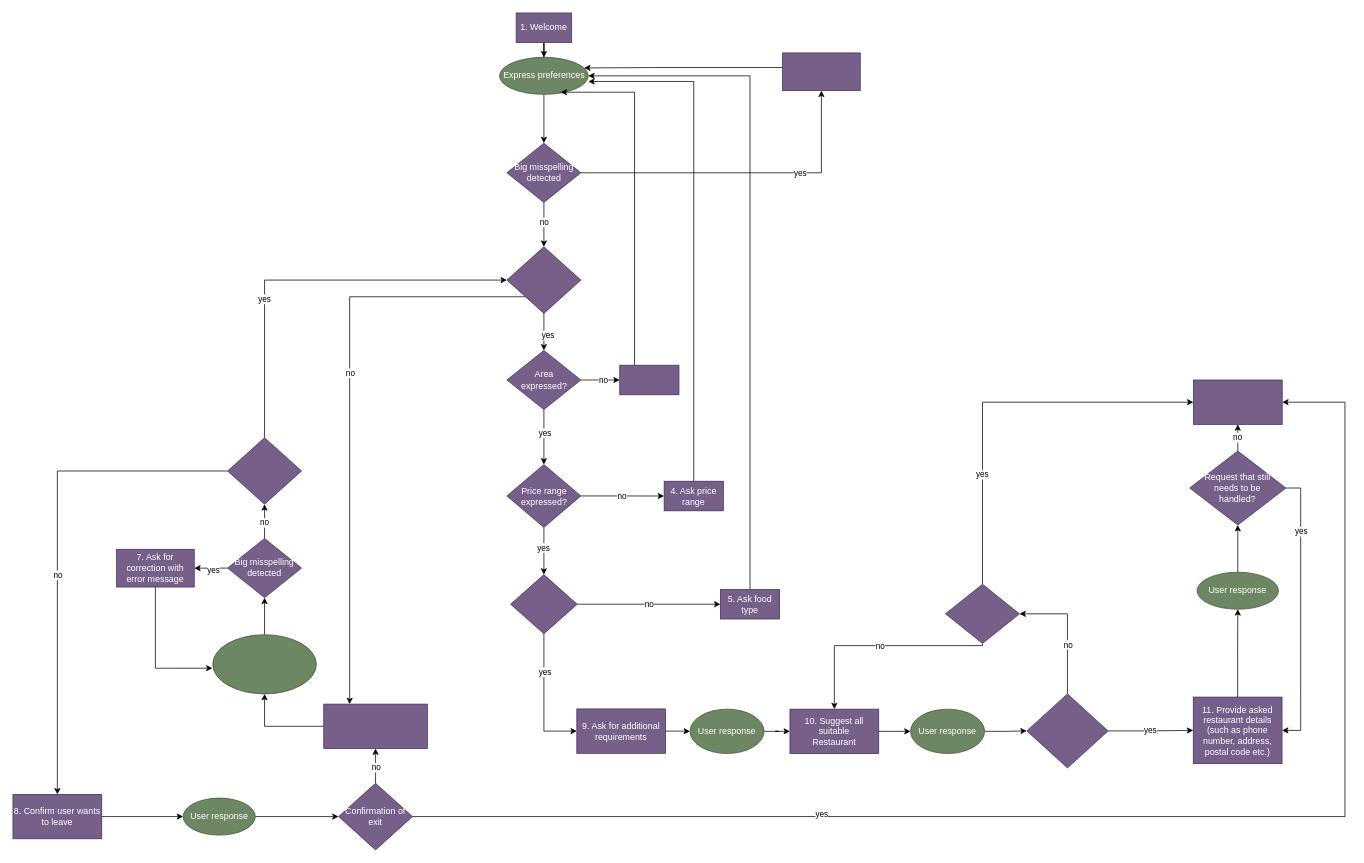
This 1364x863 diagram has some shape labels left out. Each missing label, with the centre of its shape:
12. Goodbye: point 1237,401
2. Ask for correction with error message: point 821,71
3. Ask area: point 649,379
6. Express that no restaurant is possible with current information: point 375,726
Food type expressed?: point 543,604
Restaurant with given preferences exists?: point 543,279
User asks for restaurant details?: point 1067,730
User Expresses what he/she wants: point 264,664
User wants to change preferences?: point 264,470
User wants to leave?: point 982,613
